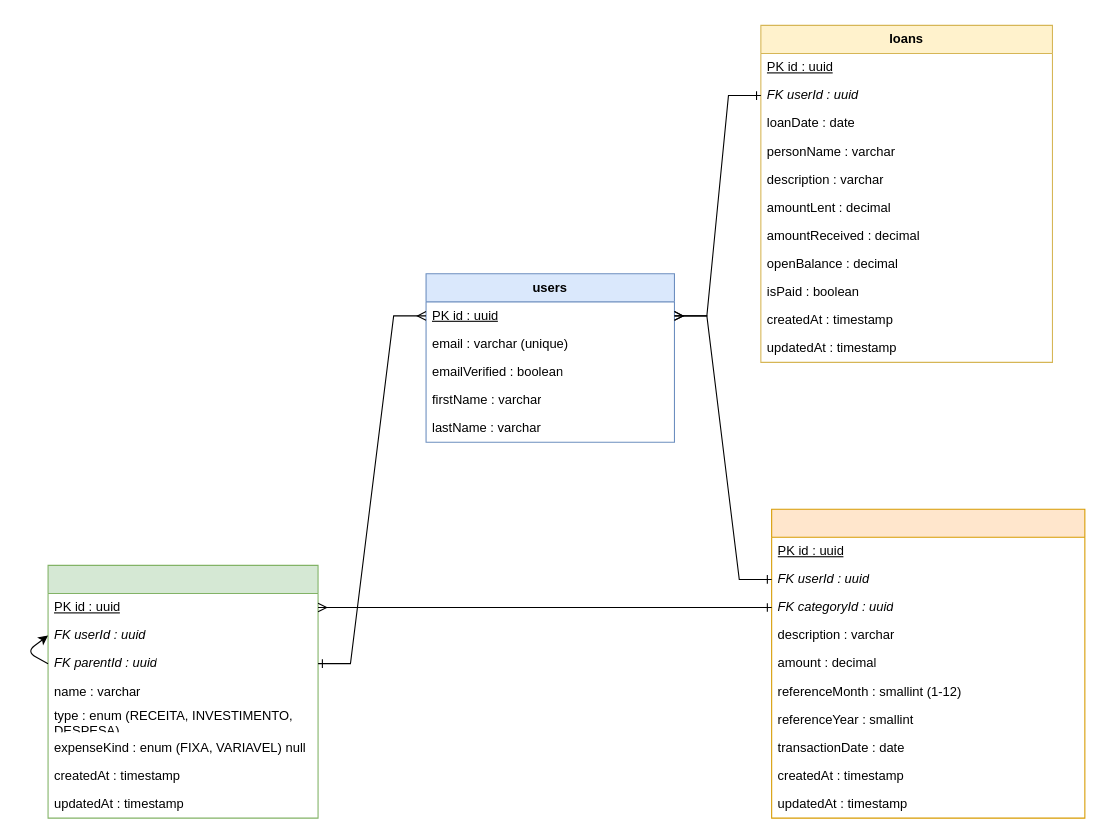
Image size: 1104x837. Some labels were removed from this diagram. The box of each missing label's shape, as (x1, y1, x2, y2) in pixels:
categories: (47, 564, 318, 818)
transactions: (771, 508, 1085, 818)
